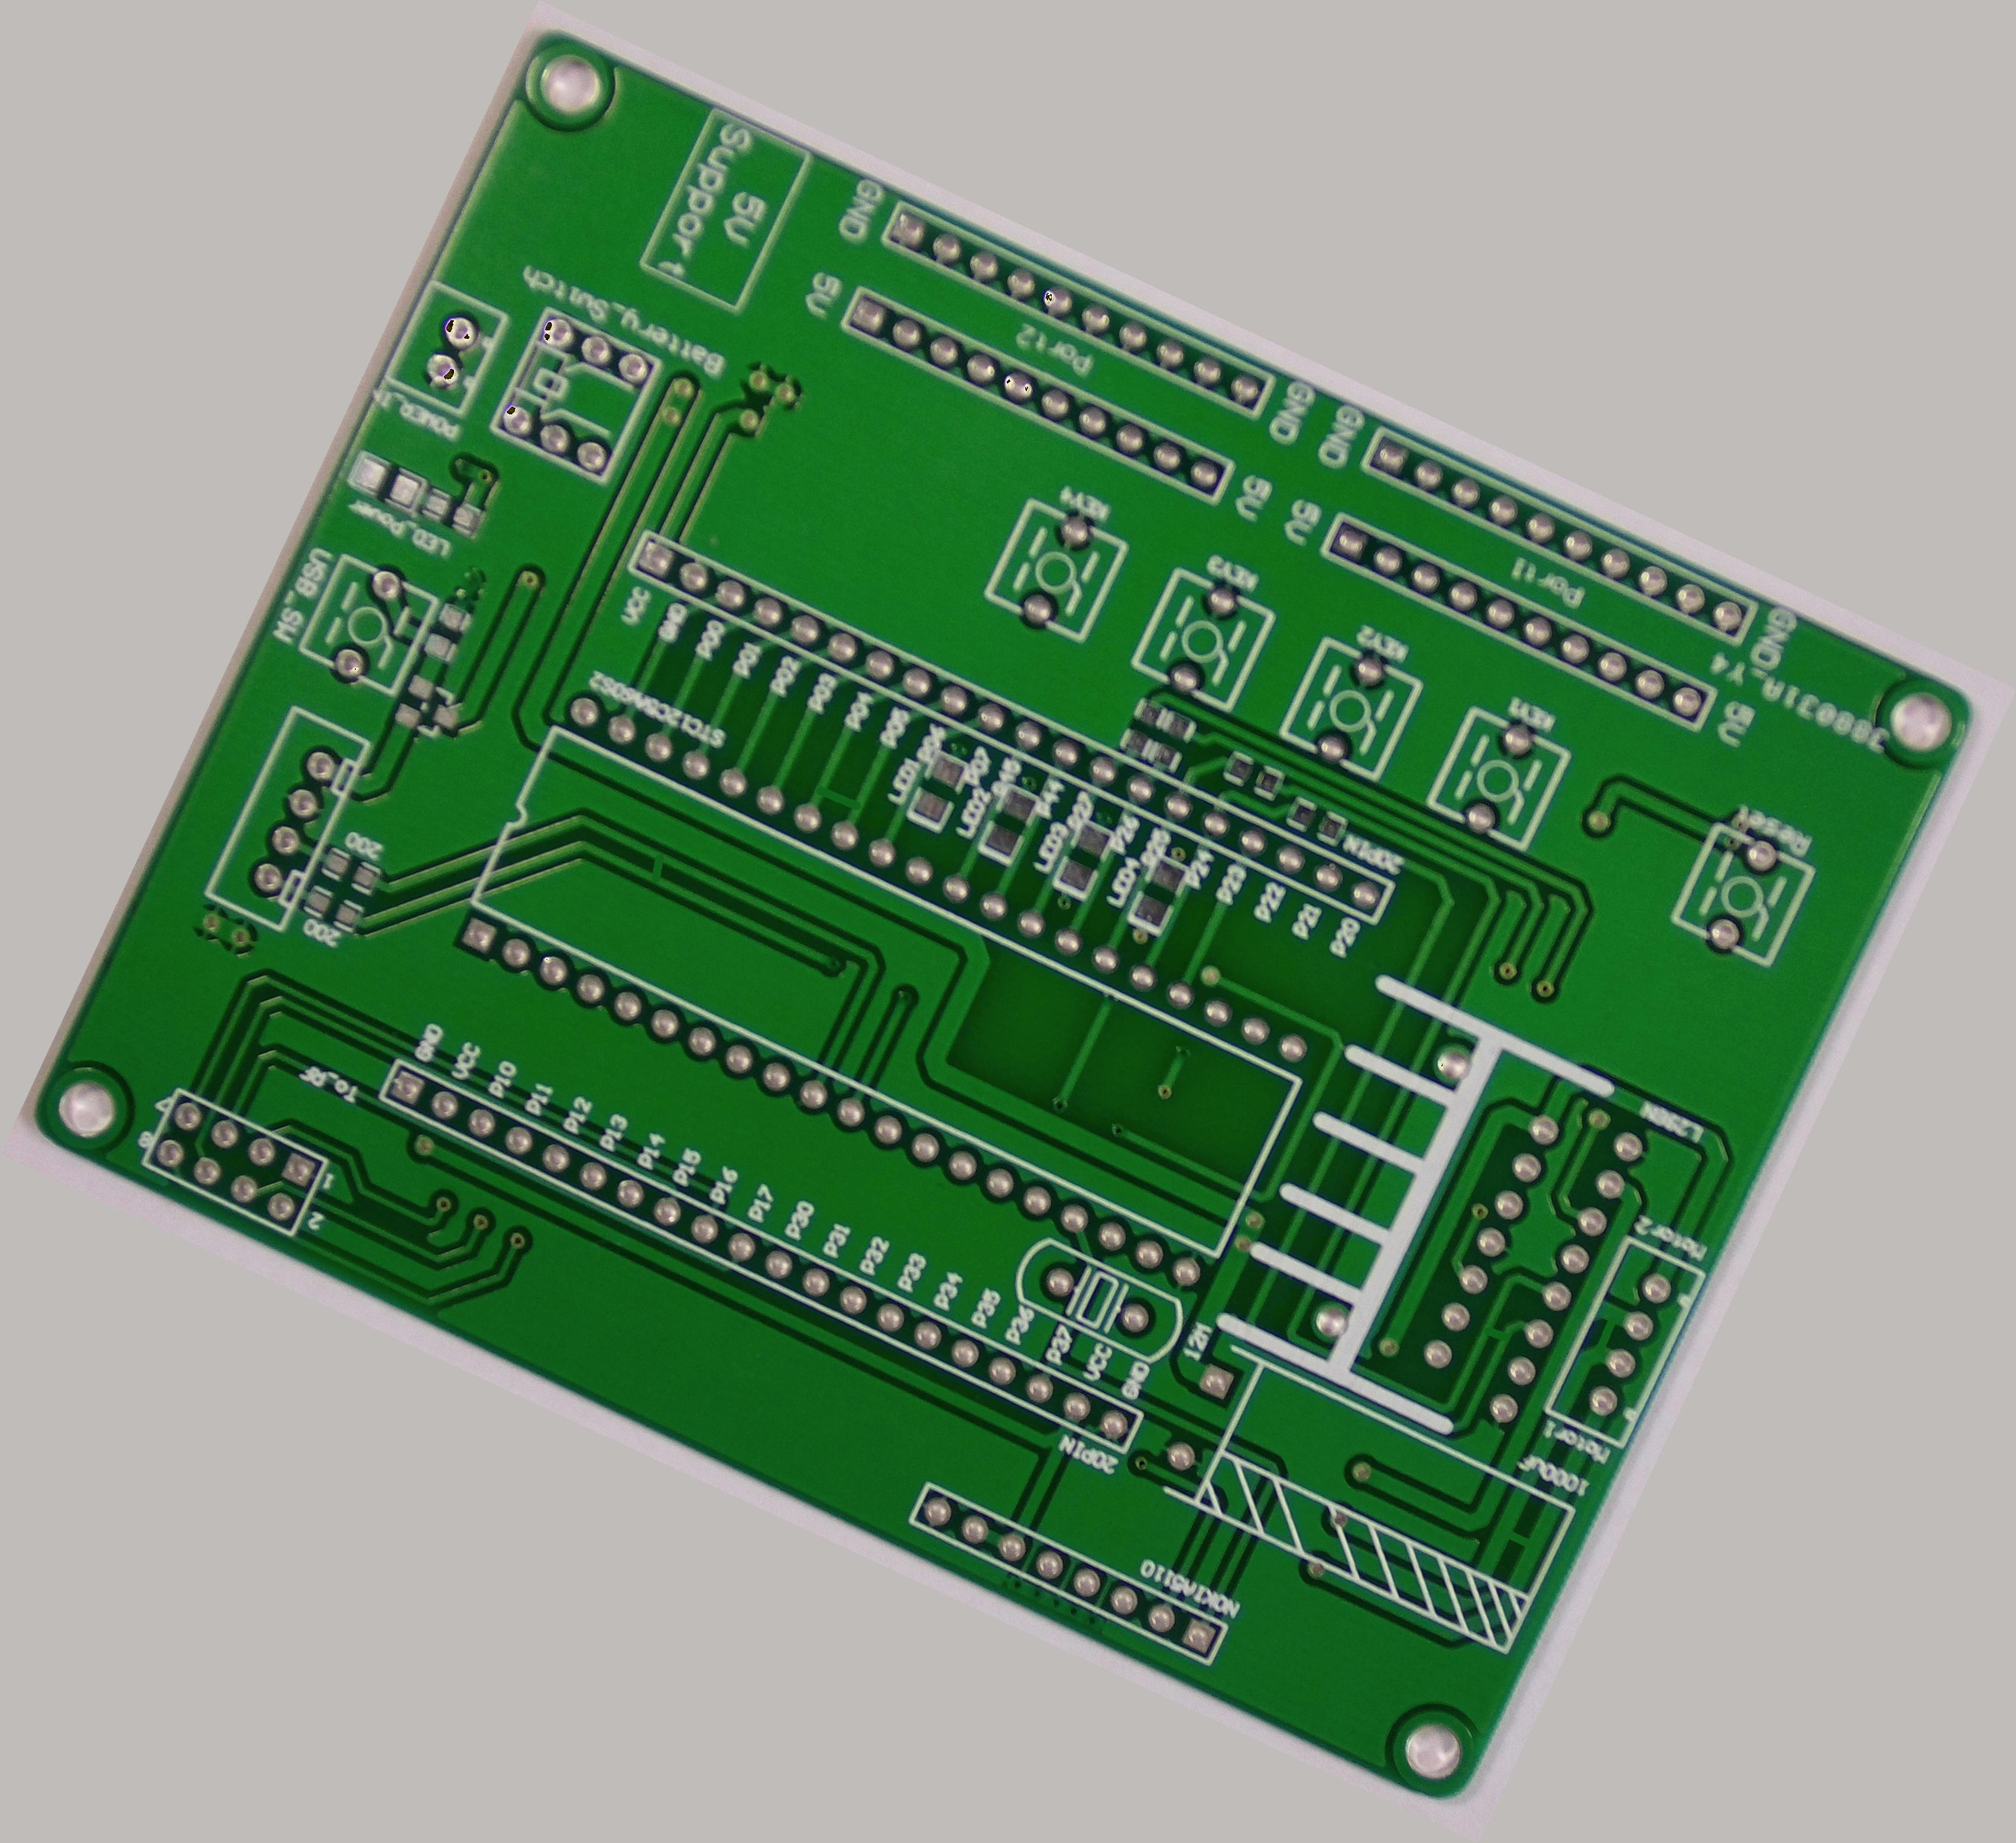short: (790, 760, 883, 846), (1480, 1508, 1556, 1576), (1575, 1299, 1642, 1369), (622, 834, 687, 899), (1470, 1308, 1523, 1360)
